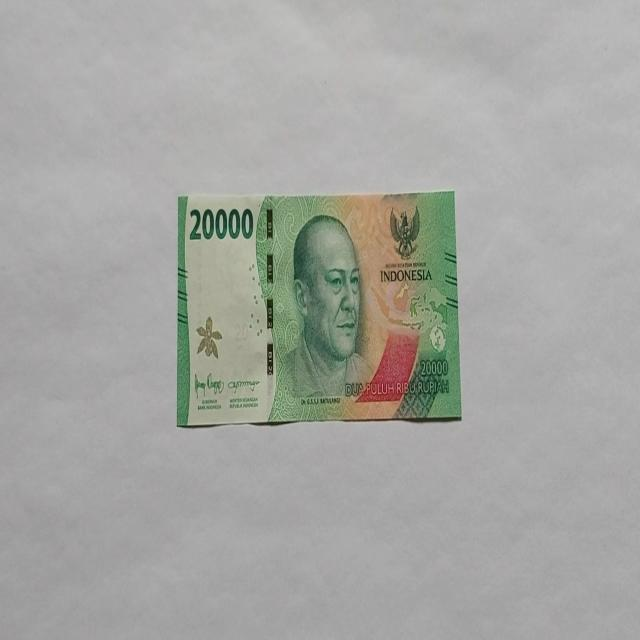dua puluh ribu rupiah: (176, 188, 462, 428), (270, 210, 378, 418)
